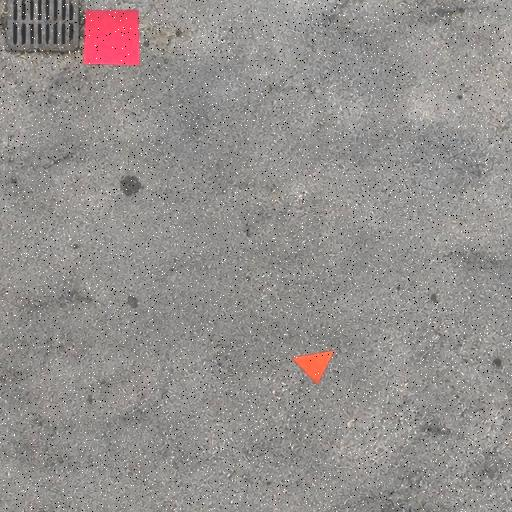RED_SQUARE: (83, 10, 140, 66)
